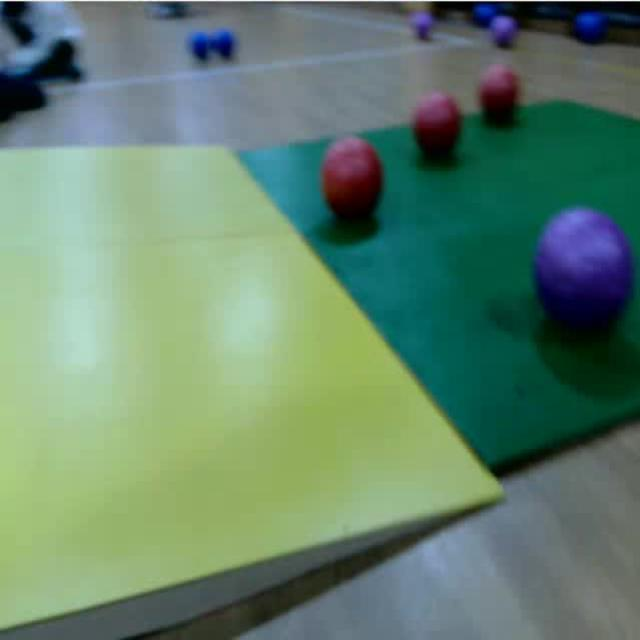purple_ball: (533, 209, 634, 336)
red_ball: (320, 138, 382, 220), (415, 95, 462, 156), (480, 65, 520, 122)
